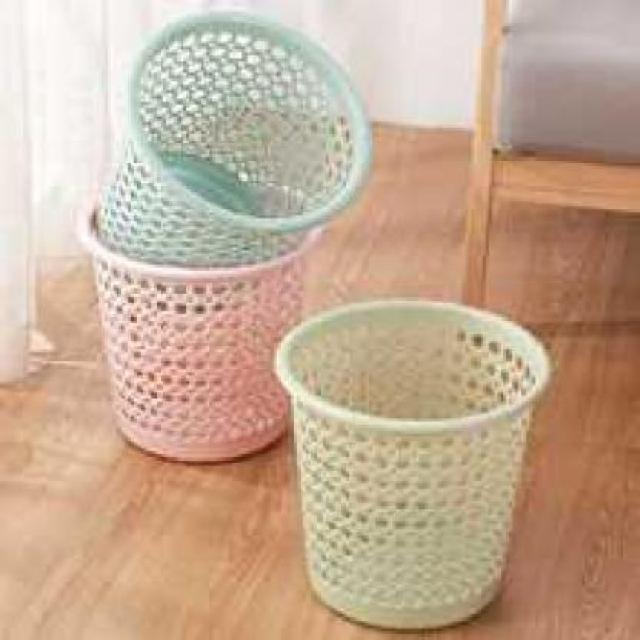dustbin: (271, 296, 553, 636), (72, 178, 330, 470), (94, 6, 375, 267)
